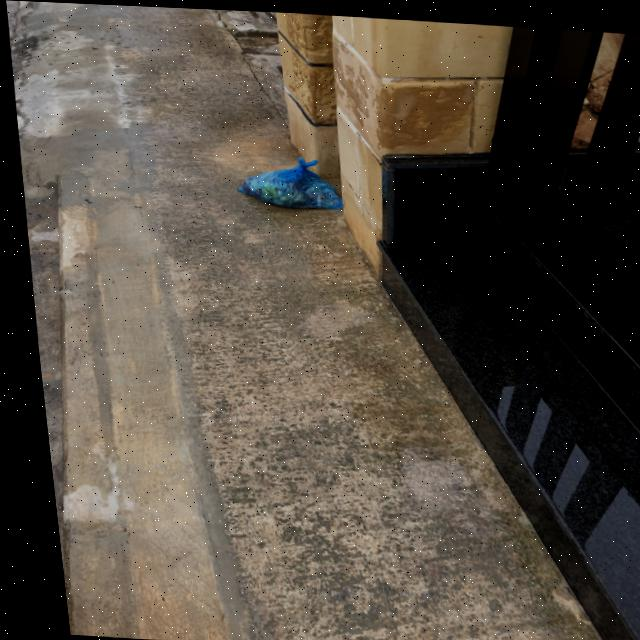Other: (229, 151, 341, 211)
